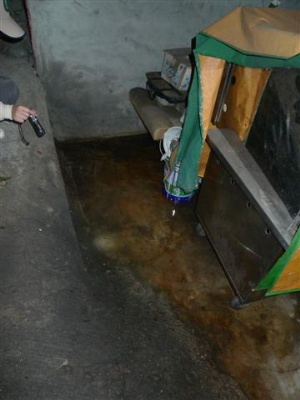plastic_bag: (192, 4, 300, 69)
